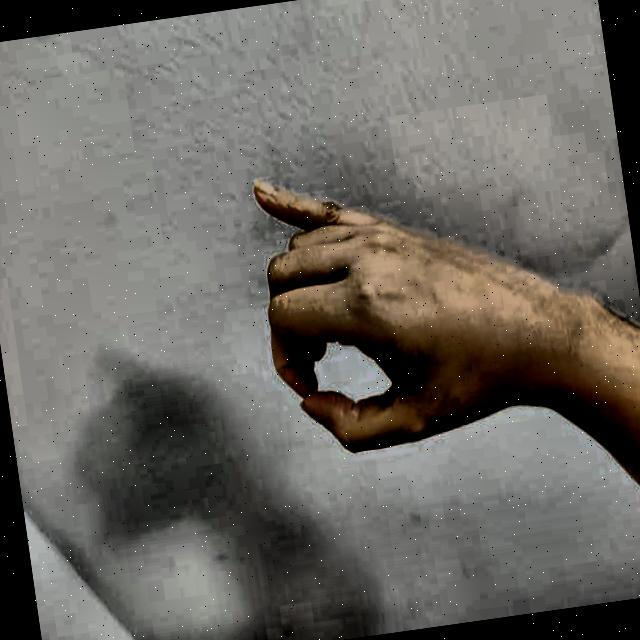Ou: (202, 110, 571, 523)
